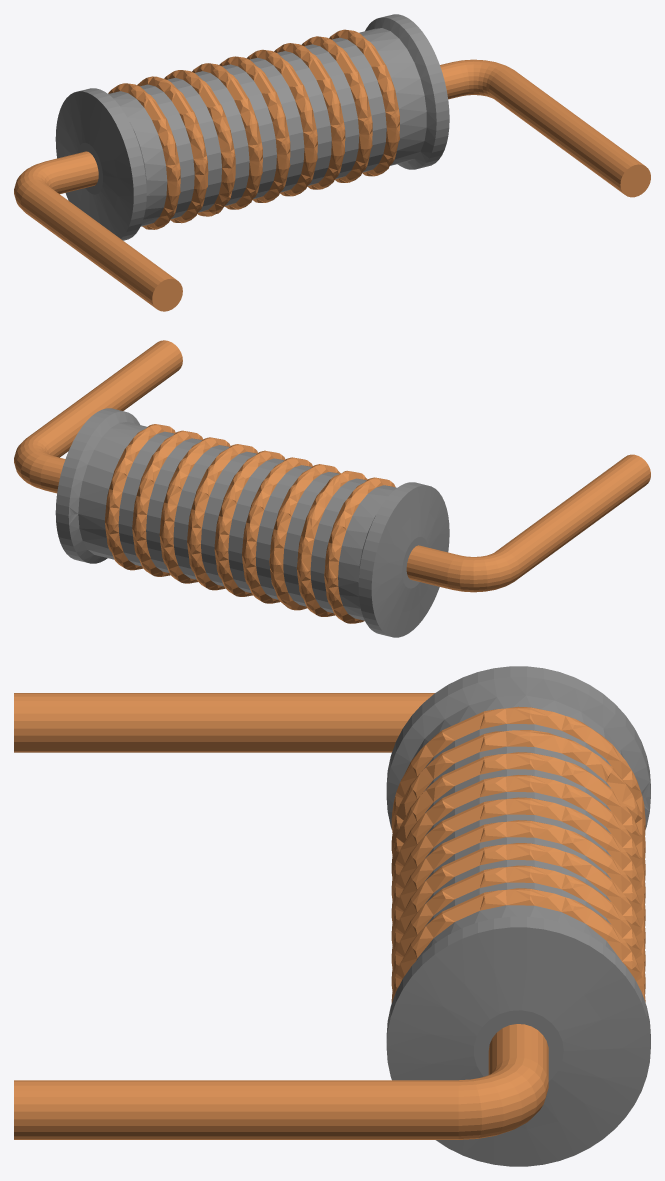
File: L_Axial_L5.3mm_D2.2mm_P7.62mm_Horizontal_Vishay_IM-1.glb
3 views of the same model, one above another, from view 1: azimuth 30°, elevation 25°; view 2: azimuth 150°, elevation 25°; view 3: azimuth 270°, elevation 25° (orthographic). The views are drawn at different scales.
Parts seen in each view (by area): view 1: Shape_IndexedFaceSet.029, Shape_IndexedFaceSet.008, Shape_IndexedFaceSet.033, Shape_IndexedFaceSet.005, Shape_IndexedFaceSet.026, Shape_IndexedFaceSet.025, Shape_IndexedFaceSet.013, Shape_IndexedFaceSet.015, Shape_IndexedFaceSet.011, Shape_IndexedFaceSet.017, Shape_IndexedFaceSet.021, Shape_IndexedFaceSet.007 (+19 smaller); view 2: Shape_IndexedFaceSet.029, Shape_IndexedFaceSet.033, Shape_IndexedFaceSet.008, Shape_IndexedFaceSet.005, Shape_IndexedFaceSet.026, Shape_IndexedFaceSet.032, Shape_IndexedFaceSet.025, Shape_IndexedFaceSet.011, Shape_IndexedFaceSet.013, Shape_IndexedFaceSet.017, Shape_IndexedFaceSet.021, Shape_IndexedFaceSet.007 (+17 smaller); view 3: Shape_IndexedFaceSet, Shape_IndexedFaceSet.008, Shape_IndexedFaceSet.033, Shape_IndexedFaceSet.027, Shape_IndexedFaceSet.006, Shape_IndexedFaceSet.021, Shape_IndexedFaceSet.015, Shape_IndexedFaceSet.011, Shape_IndexedFaceSet.017, Shape_IndexedFaceSet.023, Shape_IndexedFaceSet.019, Shape_IndexedFaceSet.025 (+16 smaller).
Boxes of the visible parts, x1,y1,x2,y2 form: Shape_IndexedFaceSet.029: [55, 91, 133, 238]; Shape_IndexedFaceSet.008: [489, 68, 644, 193]; Shape_IndexedFaceSet.033: [21, 182, 175, 308]; Shape_IndexedFaceSet.005: [359, 28, 426, 165]; Shape_IndexedFaceSet.026: [108, 91, 167, 226]; Shape_IndexedFaceSet.025: [108, 83, 180, 229]; Shape_IndexedFaceSet.013: [274, 43, 345, 189]; Shape_IndexedFaceSet.015: [246, 49, 317, 196]; Shape_IndexedFaceSet.011: [301, 36, 372, 182]; Shape_IndexedFaceSet.017: [219, 56, 290, 202]; Shape_IndexedFaceSet.021: [164, 70, 235, 216]; Shape_IndexedFaceSet.007: [329, 29, 399, 176]; Shape_IndexedFaceSet.029: [371, 485, 449, 637]; Shape_IndexedFaceSet.033: [496, 454, 650, 580]; Shape_IndexedFaceSet.008: [27, 340, 182, 457]; Shape_IndexedFaceSet.005: [78, 422, 146, 559]; Shape_IndexedFaceSet.026: [338, 485, 396, 620]; Shape_IndexedFaceSet.032: [447, 550, 519, 592]; Shape_IndexedFaceSet.025: [324, 477, 395, 623]; Shape_IndexedFaceSet.011: [132, 430, 202, 576]; Shape_IndexedFaceSet.013: [159, 437, 230, 583]; Shape_IndexedFaceSet.017: [214, 450, 285, 596]; Shape_IndexedFaceSet.021: [269, 464, 340, 610]; Shape_IndexedFaceSet.007: [104, 424, 175, 570]; Shape_IndexedFaceSet: [386, 927, 650, 1166]; Shape_IndexedFaceSet.008: [14, 1080, 458, 1139]; Shape_IndexedFaceSet.033: [14, 693, 434, 752]; Shape_IndexedFaceSet.027: [386, 677, 650, 829]; Shape_IndexedFaceSet.006: [458, 1057, 548, 1139]; Shape_IndexedFaceSet.021: [391, 752, 645, 880]; Shape_IndexedFaceSet.015: [391, 820, 645, 948]; Shape_IndexedFaceSet.011: [391, 865, 645, 993]; Shape_IndexedFaceSet.017: [391, 797, 645, 925]; Shape_IndexedFaceSet.023: [391, 730, 645, 857]; Shape_IndexedFaceSet.019: [391, 774, 645, 903]; Shape_IndexedFaceSet.025: [391, 706, 645, 835].
Bounding box in the file's own units: 3.2 × 0.8644 × 2.09.
